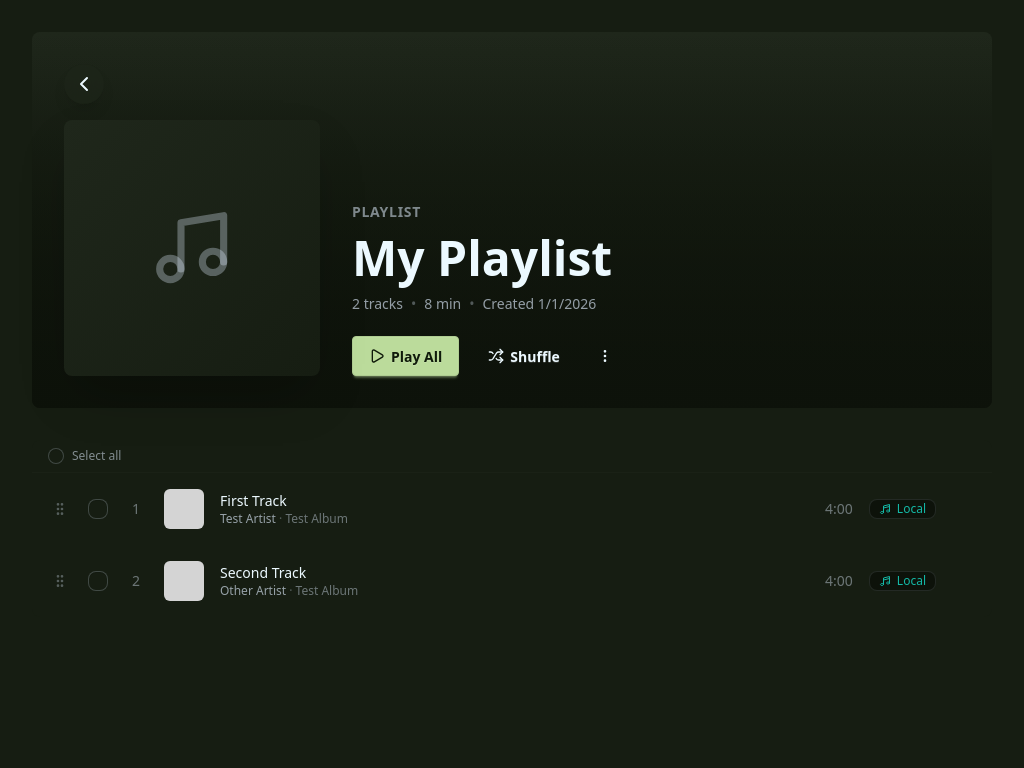
Scenario: Playlist detail page › inline name editing: save button click saves new name
Expected: the heading "My Playlist" is shown, [352,228,612,288]
Click the button with aria-label "Edit playlist name" at [482, 258], box [352,228,960,288]
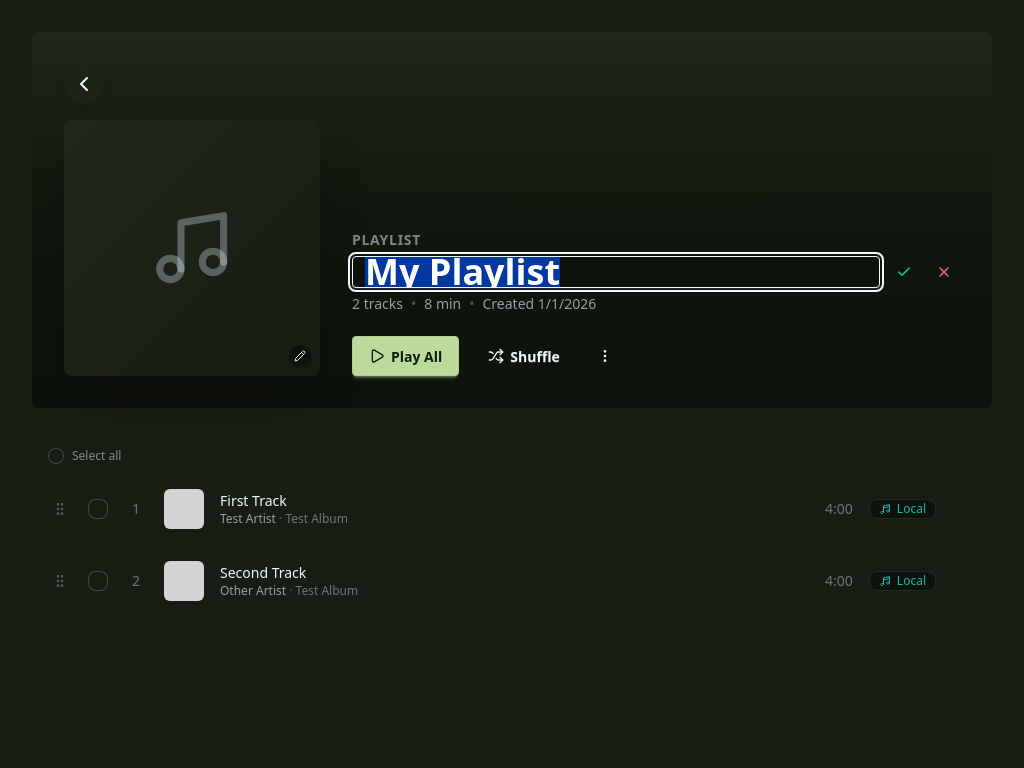
Result: the field with placeholder "Playlist name" is shown
Replace the text in the field with placeholder "Playlist name" with "Renamed" at [616, 272], box [352,256,880,288]
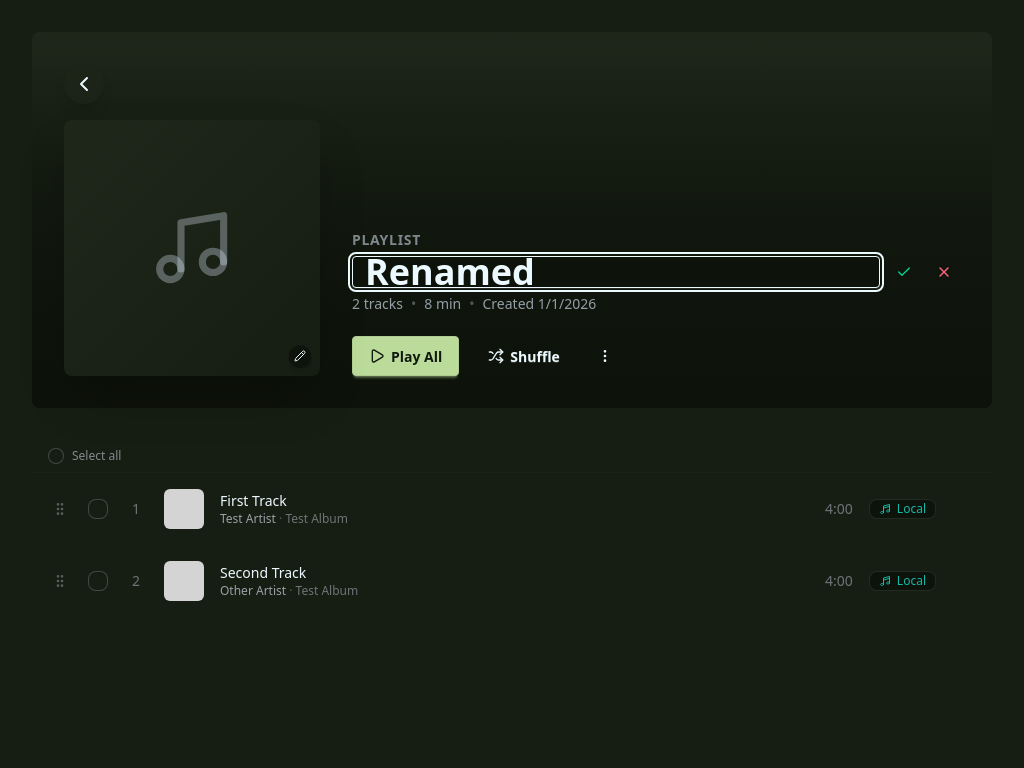
Click the button named "Save name" at [904, 272], box [888,256,920,288]
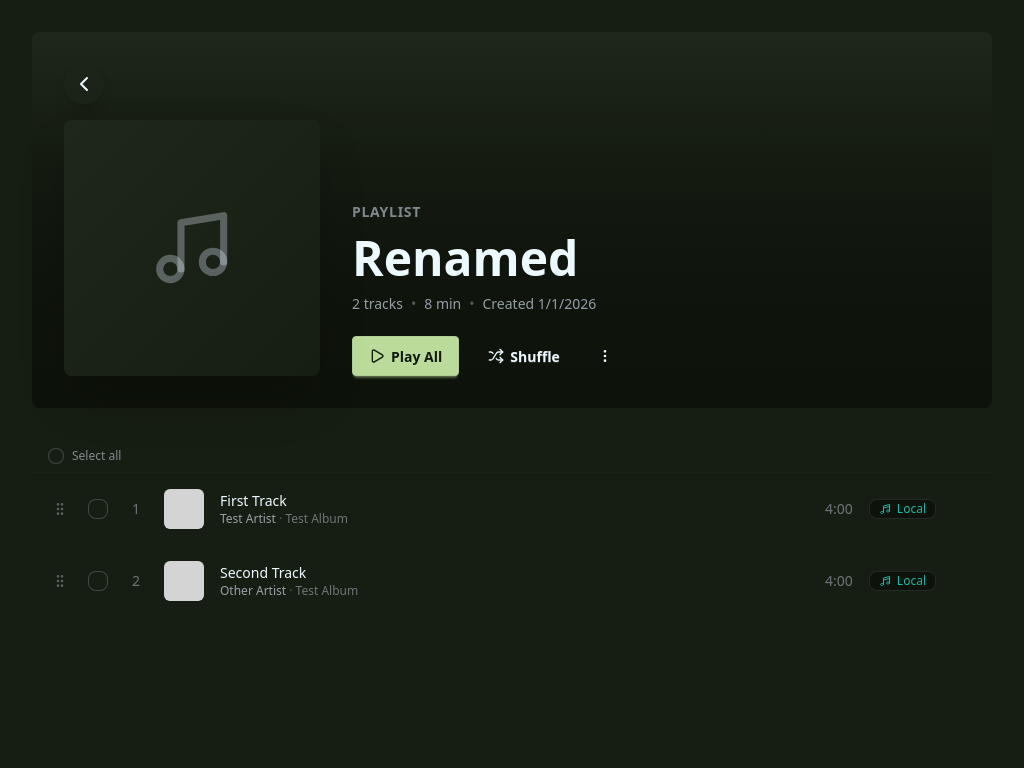
Result: the heading "Renamed" is shown at [352,228,578,288]
